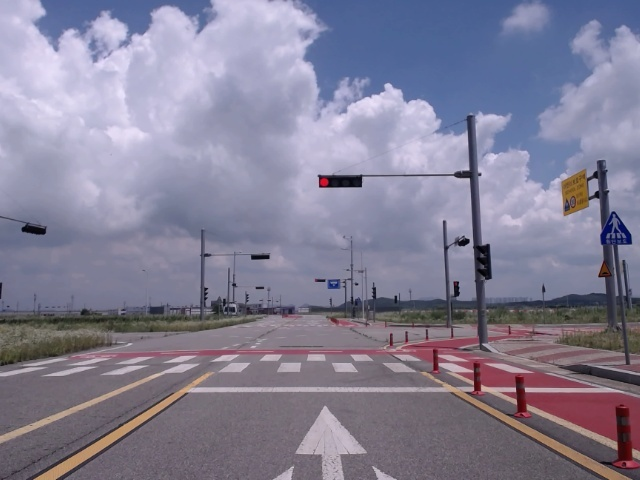red_4: (319, 175, 362, 188)
